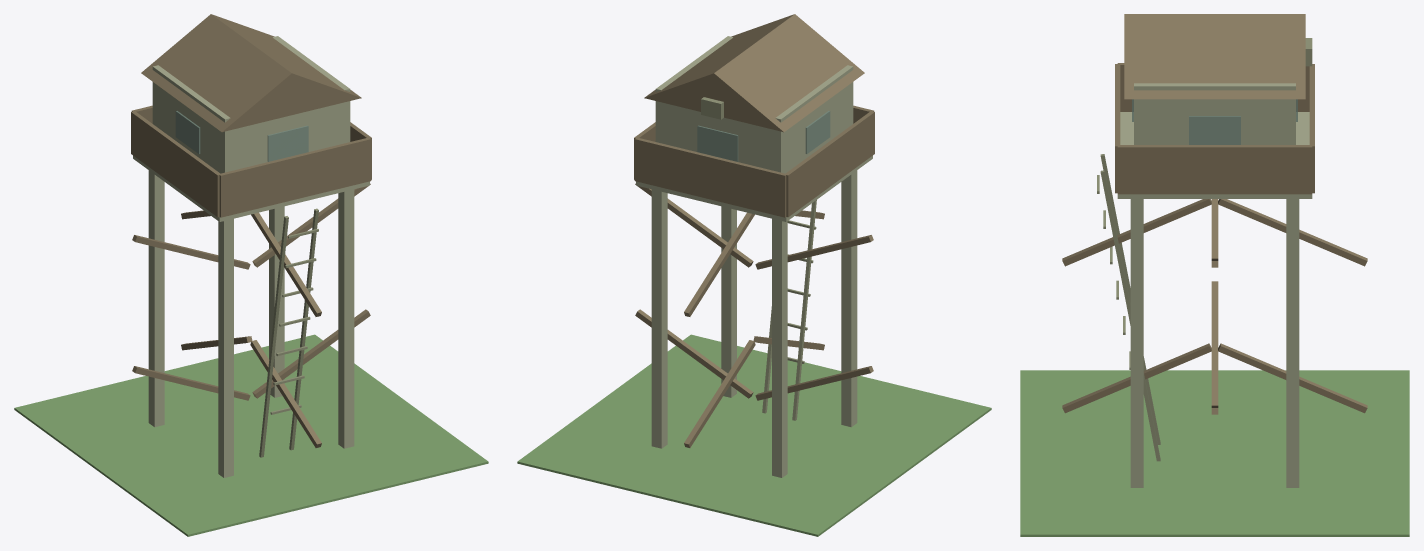
Rendered from watchtower.glb.
The picture shows the model from 3 angles, left to right: view 1: azimuth 30°, elevation 25°; view 2: azimuth 150°, elevation 25°; view 3: azimuth 270°, elevation 25°; orthographic projection. The views are drawn at different scales.
Visible parts, largest first — view 1: ground, roof, cabin, rail_s, leg_br, rail_w, leg_bl, leg_fl, leg_fr, ladder_l, win_s, ladder_r (+8 smaller); view 2: ground, roof, cabin, rail_n, leg_fr, rail_w, leg_fl, leg_bl, leg_br, win_n, ladder_l, xb_low_3 (+7 smaller); view 3: ground, roof, rail_e, cabin, leg_fr, leg_br, platform, win_e, xb_low_3, xb_low_4, xb_high_3, xb_high_4 (+7 smaller).
Boxes of the visible parts, box(x1,y1,x2,y2) form: ground: box(14, 334, 488, 536); roof: box(141, 14, 361, 132); cabin: box(152, 36, 350, 173); rail_s: box(219, 137, 371, 217); leg_br: box(338, 189, 354, 448); rail_w: box(131, 111, 220, 217); leg_bl: box(218, 218, 233, 477); leg_fl: box(148, 170, 164, 427); leg_fr: box(269, 206, 284, 397); ladder_l: box(259, 216, 288, 457); win_s: box(267, 125, 308, 161); ladder_r: box(289, 208, 318, 450); ground: box(517, 334, 991, 536); roof: box(644, 14, 864, 132); cabin: box(655, 36, 853, 173); rail_n: box(634, 137, 786, 217); leg_fr: box(651, 189, 667, 448); rail_w: box(785, 111, 874, 217); leg_fl: box(772, 218, 787, 477); leg_bl: box(841, 170, 857, 427); leg_br: box(721, 206, 736, 397); win_n: box(697, 125, 738, 161); ladder_l: box(792, 200, 816, 420); xb_low_3: box(684, 340, 755, 447); ground: box(1020, 370, 1409, 536); roof: box(1124, 14, 1305, 99); rail_e: box(1117, 145, 1312, 194); cabin: box(1134, 83, 1295, 144); leg_fr: box(1286, 199, 1299, 487); leg_br: box(1130, 199, 1143, 487); platform: box(1117, 112, 1312, 198); win_e: box(1189, 116, 1240, 144); xb_low_3: box(1218, 343, 1367, 413); xb_low_4: box(1062, 343, 1211, 413); xb_high_3: box(1218, 199, 1367, 266); xb_high_4: box(1062, 199, 1211, 266).
Size of the model in its own units: 6 by 7.5 by 6.
